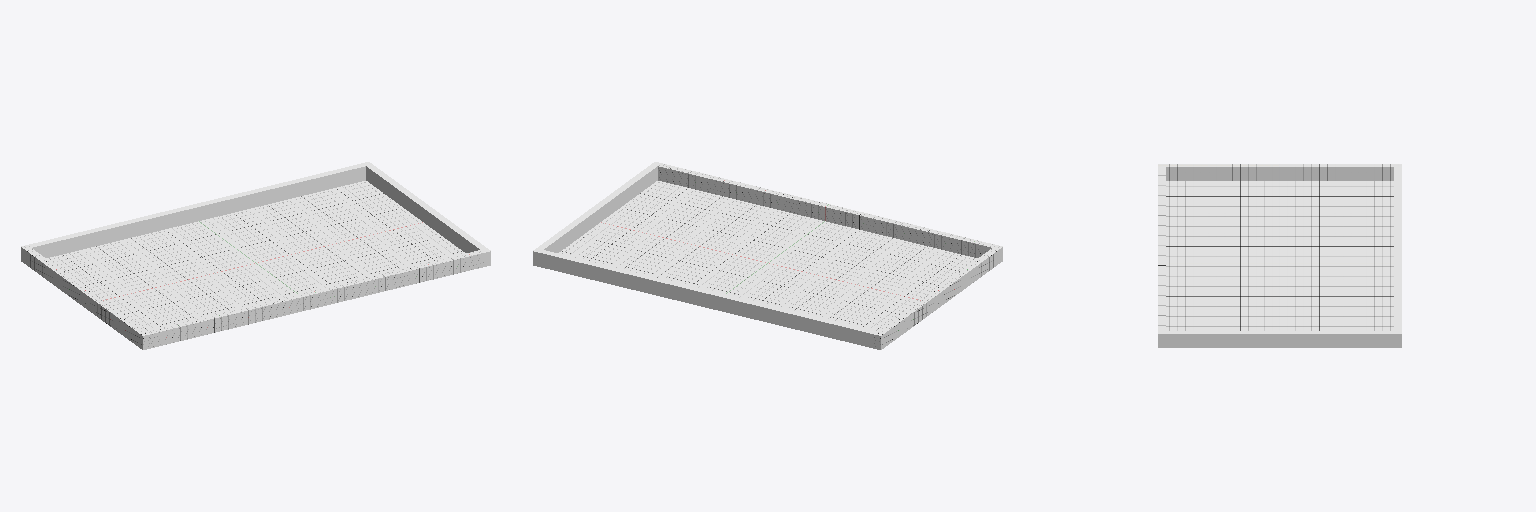
3 views of the same model, side by side, from view 1: azimuth 30°, elevation 25°; view 2: azimuth 150°, elevation 25°; view 3: azimuth 270°, elevation 25° (orthographic).
Visible parts, largest first — view 1: object0, object20, object4, object28, object12; view 2: object0, object4, object20, object28, object12; view 3: object0, object12, object28, object4, object20.
Boxes of the visible parts, x1=… form: object0: x1=46, y1=181, x2=465, y2=330; object20: x1=146, y1=250, x2=483, y2=348; object4: x1=28, y1=163, x2=365, y2=257; object28: x1=21, y1=245, x2=149, y2=349; object12: x1=363, y1=162, x2=490, y2=266; object0: x1=558, y1=181, x2=977, y2=330; object4: x1=540, y1=250, x2=877, y2=348; object20: x1=658, y1=163, x2=995, y2=257; object28: x1=874, y1=245, x2=1002, y2=349; object12: x1=533, y1=162, x2=660, y2=266; object0: x1=1166, y1=181, x2=1393, y2=330; object12: x1=1158, y1=331, x2=1401, y2=347; object28: x1=1158, y1=164, x2=1401, y2=180; object4: x1=1394, y1=167, x2=1401, y2=330; object20: x1=1158, y1=167, x2=1165, y2=330.
Bounding box in the file's own units: 51 × 2 × 31.
5 materials, 3 textured.